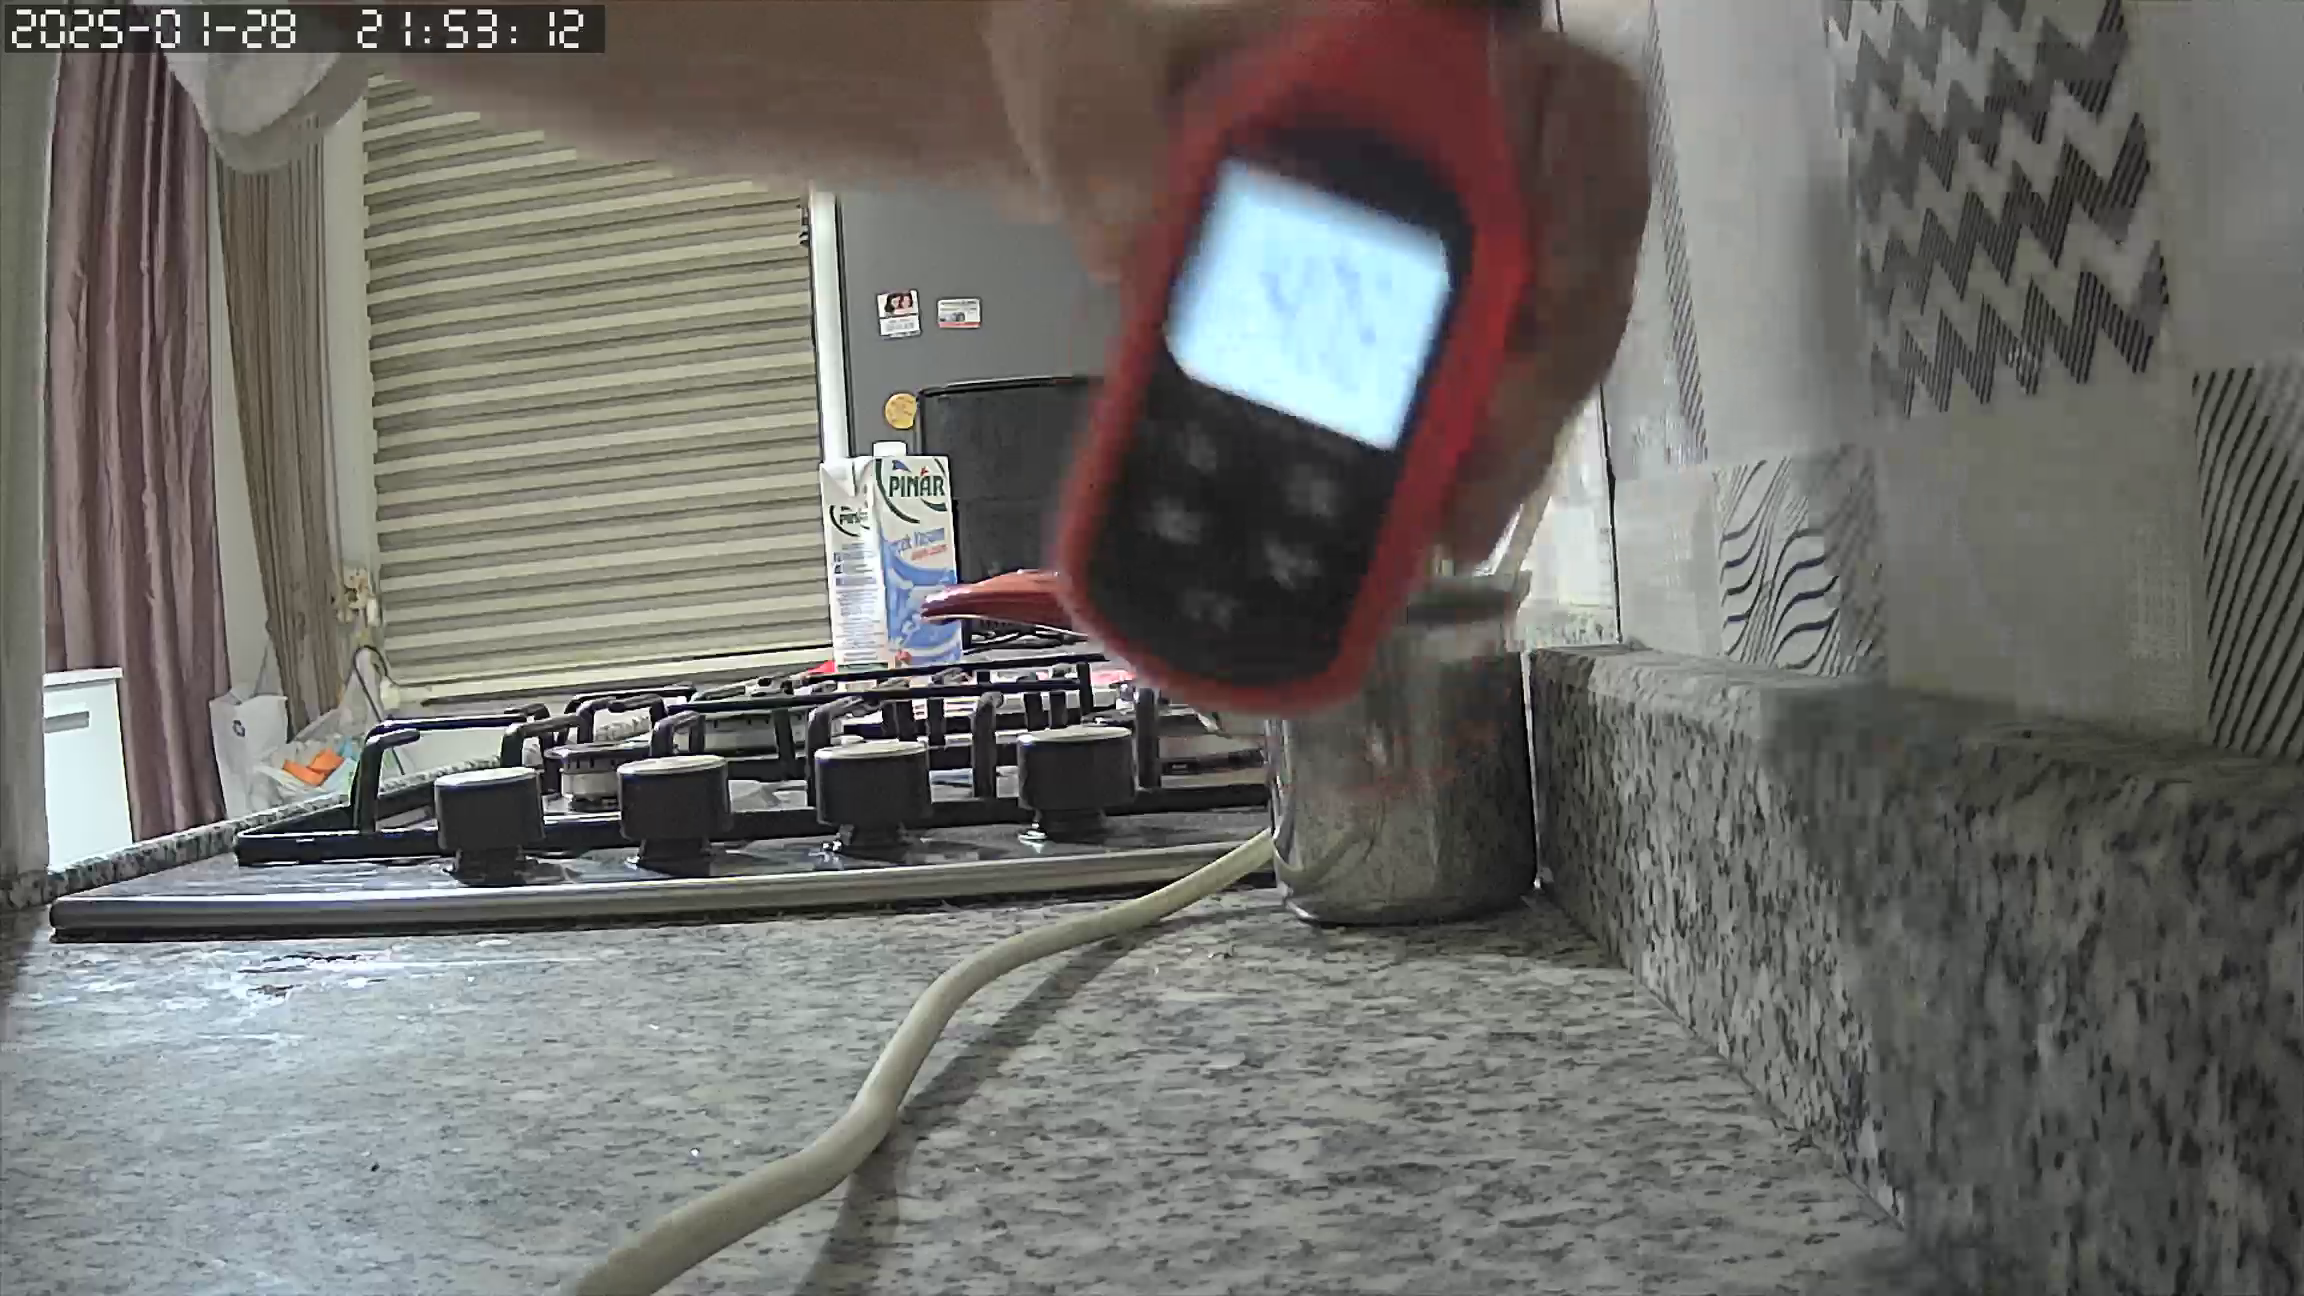screen: (1165, 160, 1449, 453)
